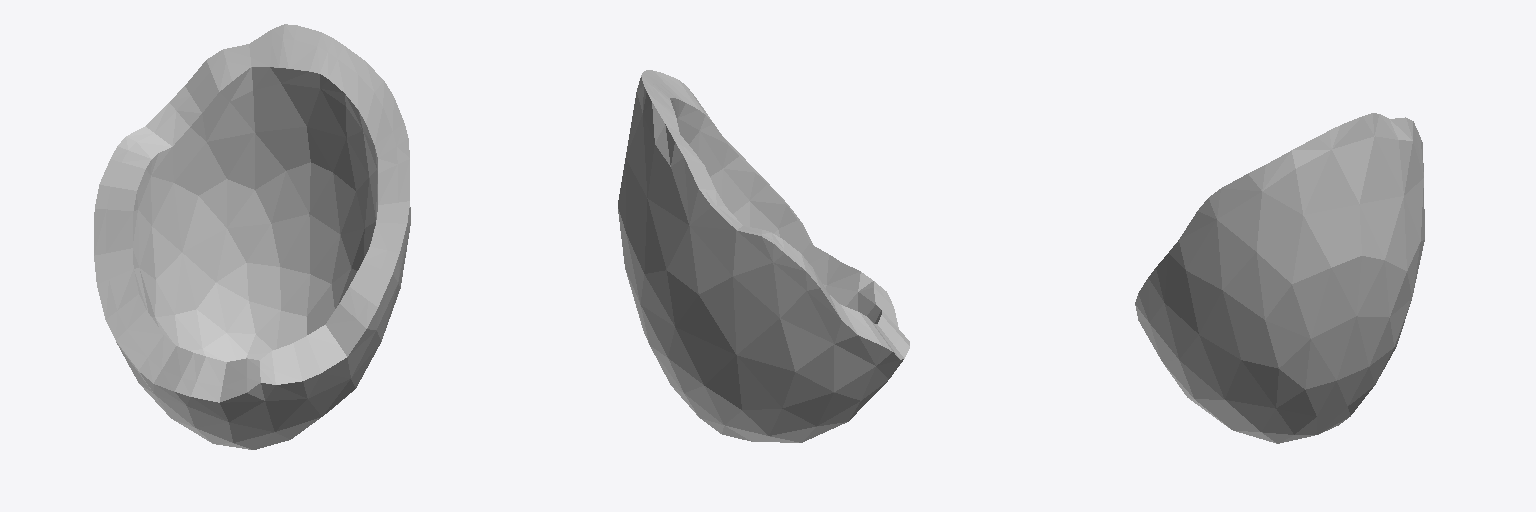
File: slice obj cocos.obj
3 views of the same model, side by side, from view 1: azimuth 30°, elevation 25°; view 2: azimuth 150°, elevation 25°; view 3: azimuth 270°, elevation 25° (orthographic).
Visible parts, largest first — view 1: Sphere.002_Sphere; view 2: Sphere.002_Sphere; view 3: Sphere.002_Sphere.
Boxes of the visible parts, <box> form: Sphere.002_Sphere: <box>94,24,410,449</box>; Sphere.002_Sphere: <box>618,70,909,442</box>; Sphere.002_Sphere: <box>1135,113,1424,443</box>.
Size of the model in its own units: 5.81 by 7.55 by 5.51.